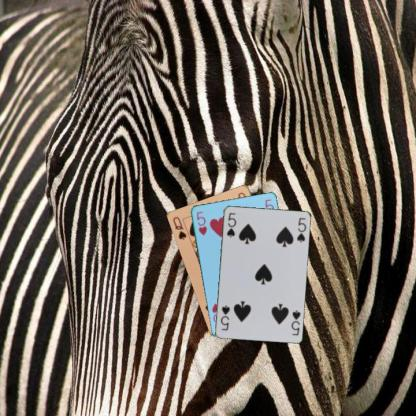5h: (194, 209, 208, 236)
5s: (224, 210, 238, 239), (288, 308, 302, 336)
Qs: (170, 214, 187, 241)
